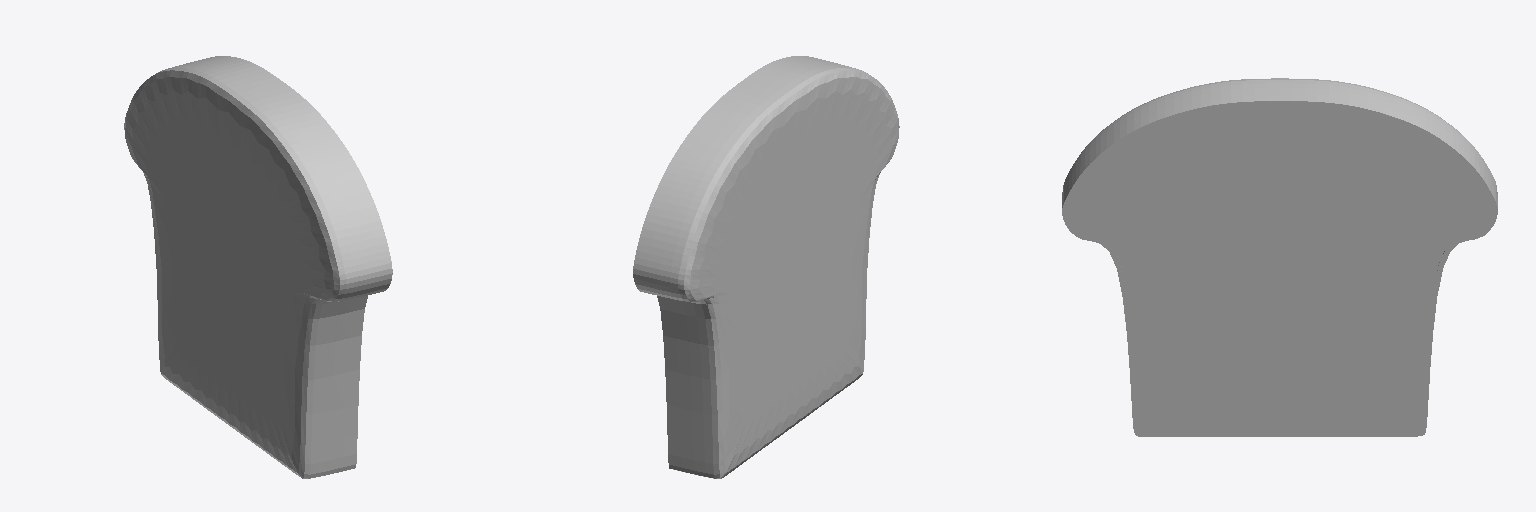
The model's file is slice_end.obj.
3 renders of one model, left to right at view 1: azimuth 30°, elevation 25°; view 2: azimuth 150°, elevation 25°; view 3: azimuth 270°, elevation 25°, orthographic.
Parts seen in each view (by area): view 1: Cube_Cube.001; view 2: Cube_Cube.001; view 3: Cube.002_Cube.003, Cube_Cube.001, Cube.001_Cube.002.
Boxes of the visible parts, x1=… form: Cube_Cube.001: x1=124, y1=56, x2=392, y2=478; Cube_Cube.001: x1=633, y1=56, x2=899, y2=478; Cube.002_Cube.003: x1=1067, y1=105, x2=1492, y2=432; Cube_Cube.001: x1=1062, y1=78, x2=1497, y2=281; Cube.001_Cube.002: x1=1062, y1=101, x2=1497, y2=436.
Bounding box in the file's own units: 0.0327 × 0.1898 × 0.2232.